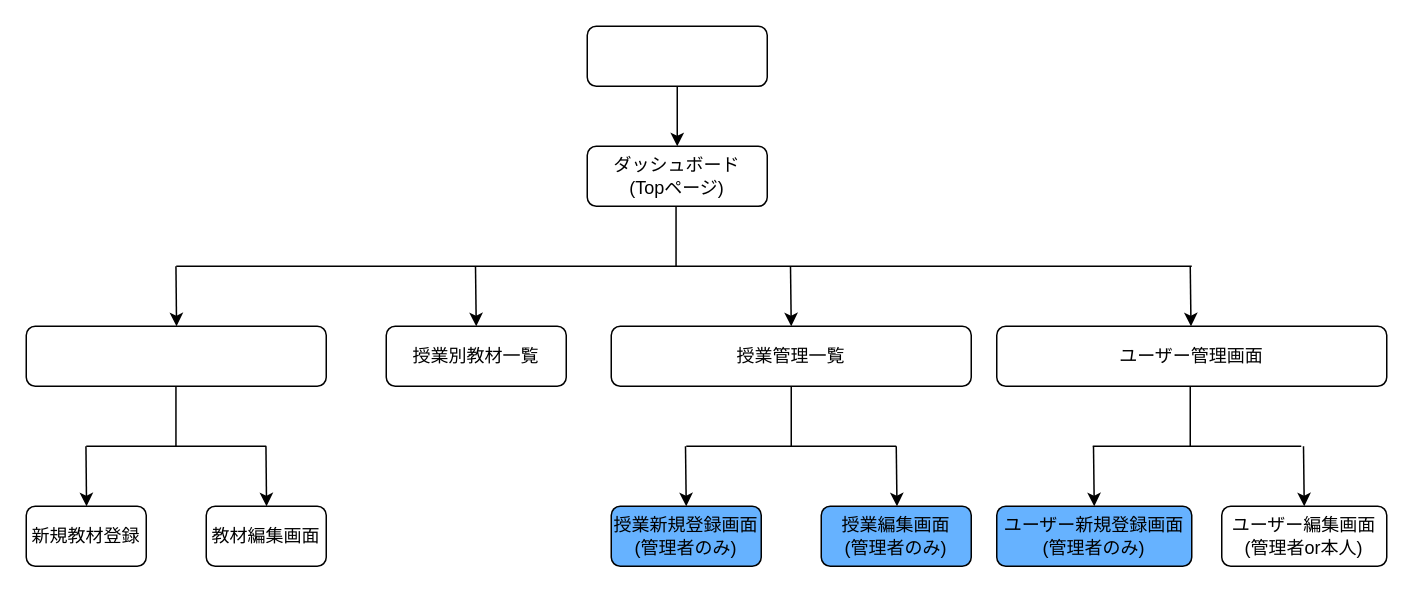
Some shapes in this 1413 by 593 pixel diagram are drawn without their labels. Here are the shapes that lost their labels. From the top down, the centre of each, then its label:
pixel 676 55: ログイン画面
pixel 175 355: 教材管理一覧
